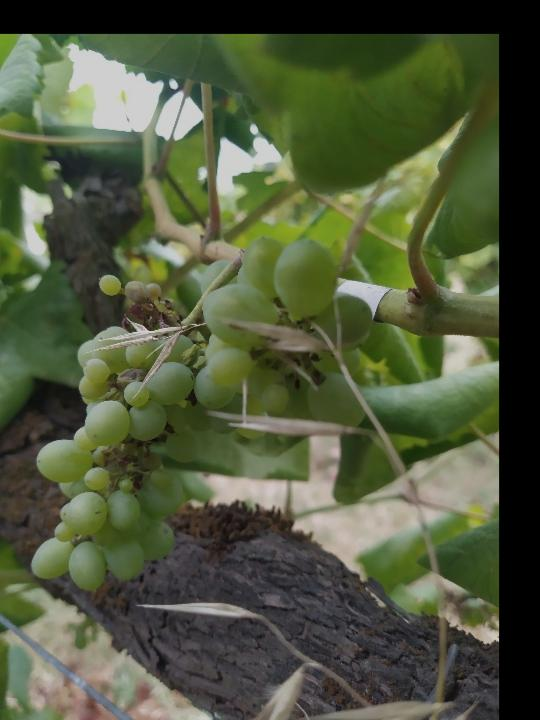grape: (26, 233, 375, 593)
